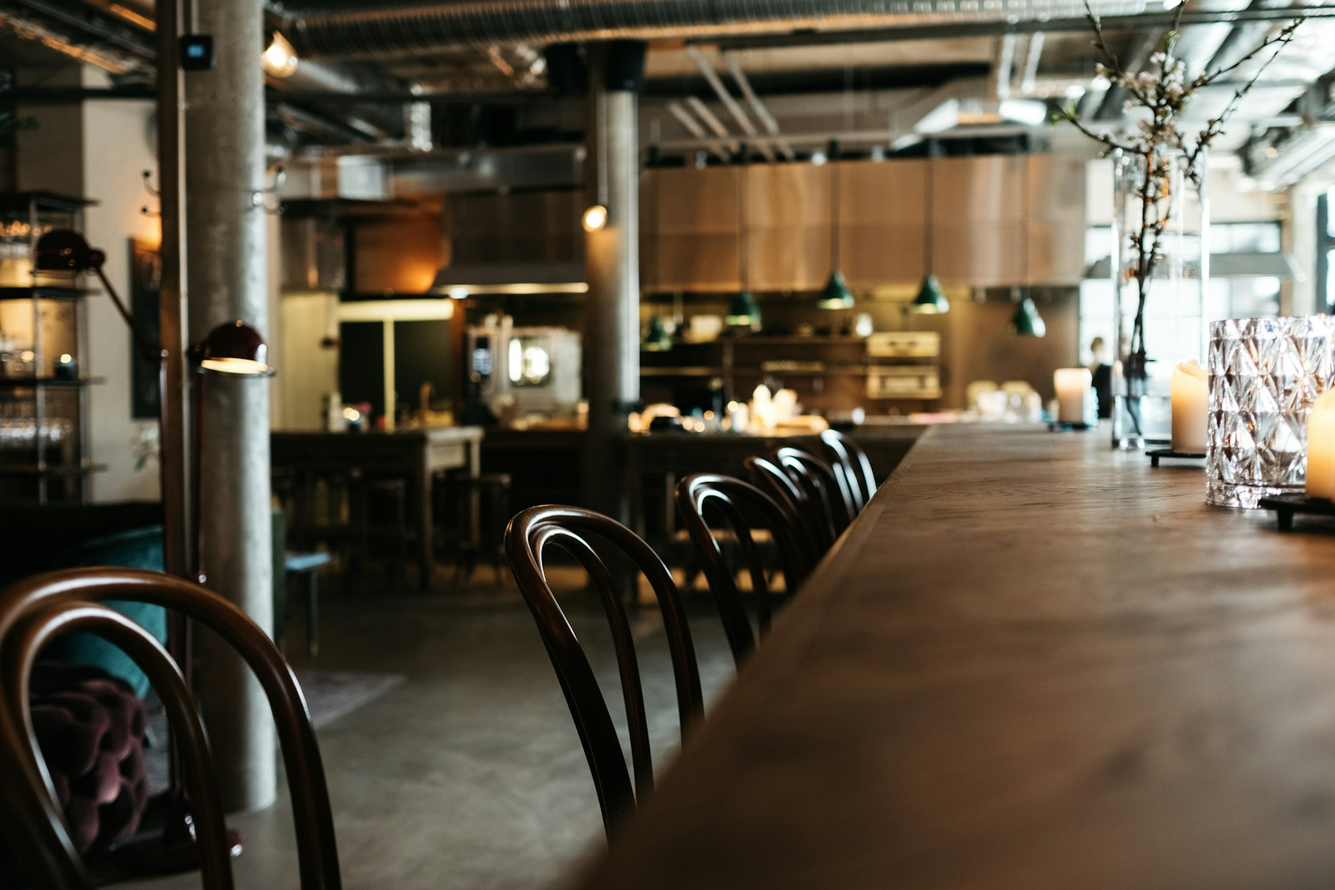clean: (634, 380, 1335, 890)
